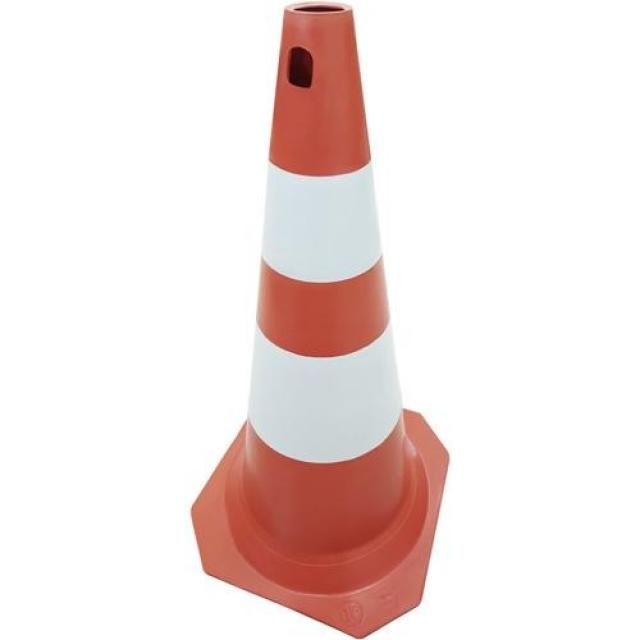cone: (188, 6, 466, 617)
